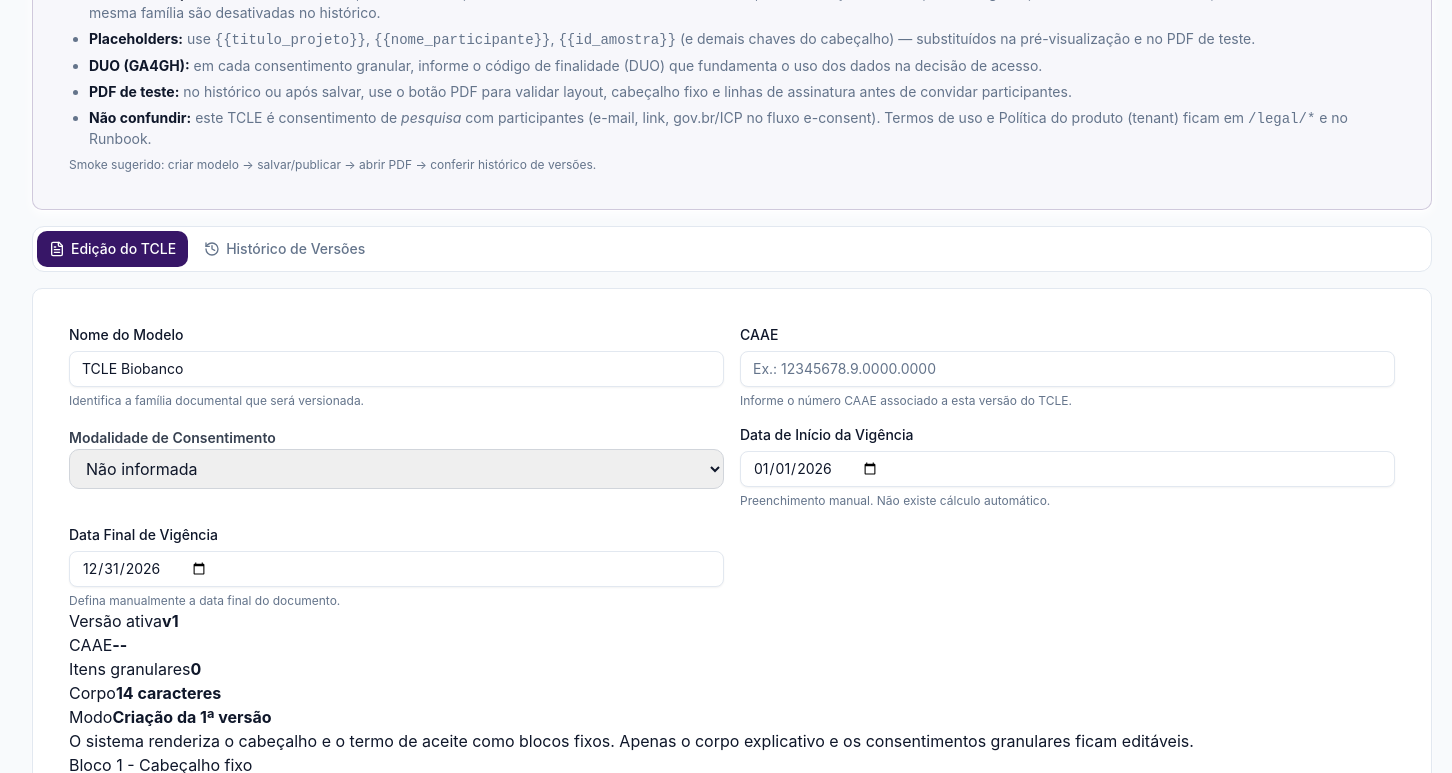
Test: TcleBuilderPage (#1337) › creates the first version with the granular permission and goes to its edit route
Earlier steps of the test are not shown.
(page scrolled)
Type " 12345678.9.0000.0000 " into the field labelled "CAAE" at (1068, 368), box [740,350,1395,386]
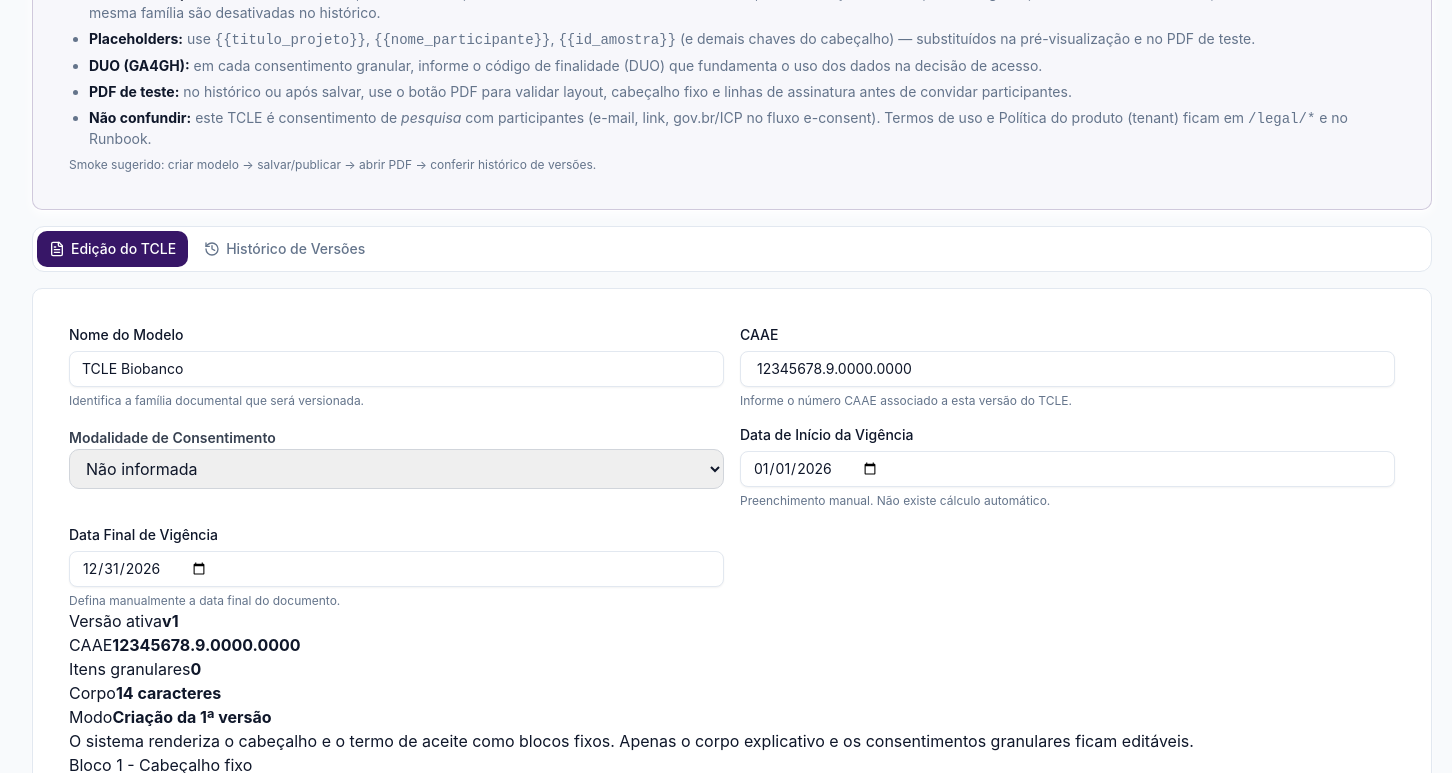
Select "Amplo" in the dropdown labelled "Modalidade de Consentimento" at (396, 468), box [69,448,724,488]
(page scrolled)
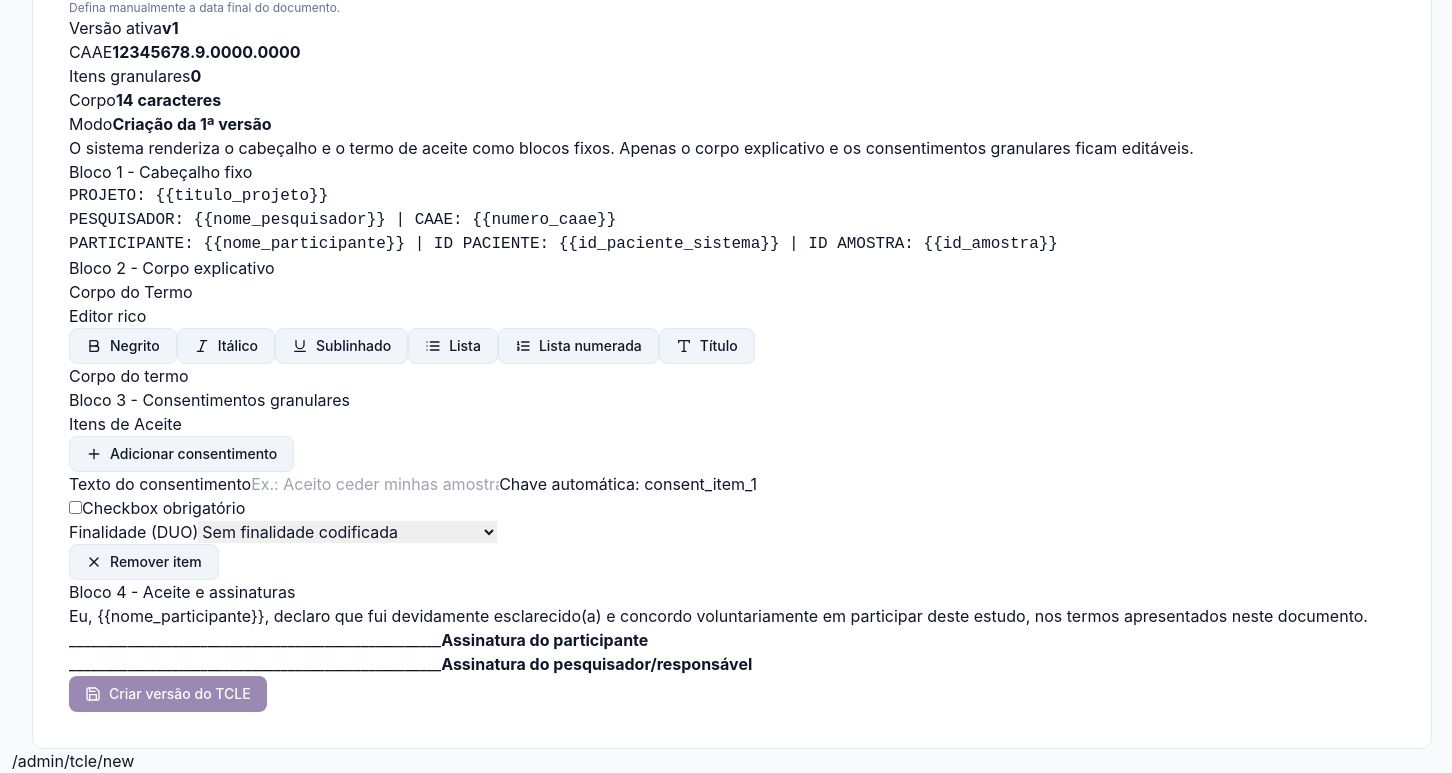
Type "Aceito o armazenamento" into the field labelled "Texto do consentimento" at (375, 484), box [251,472,499,496]
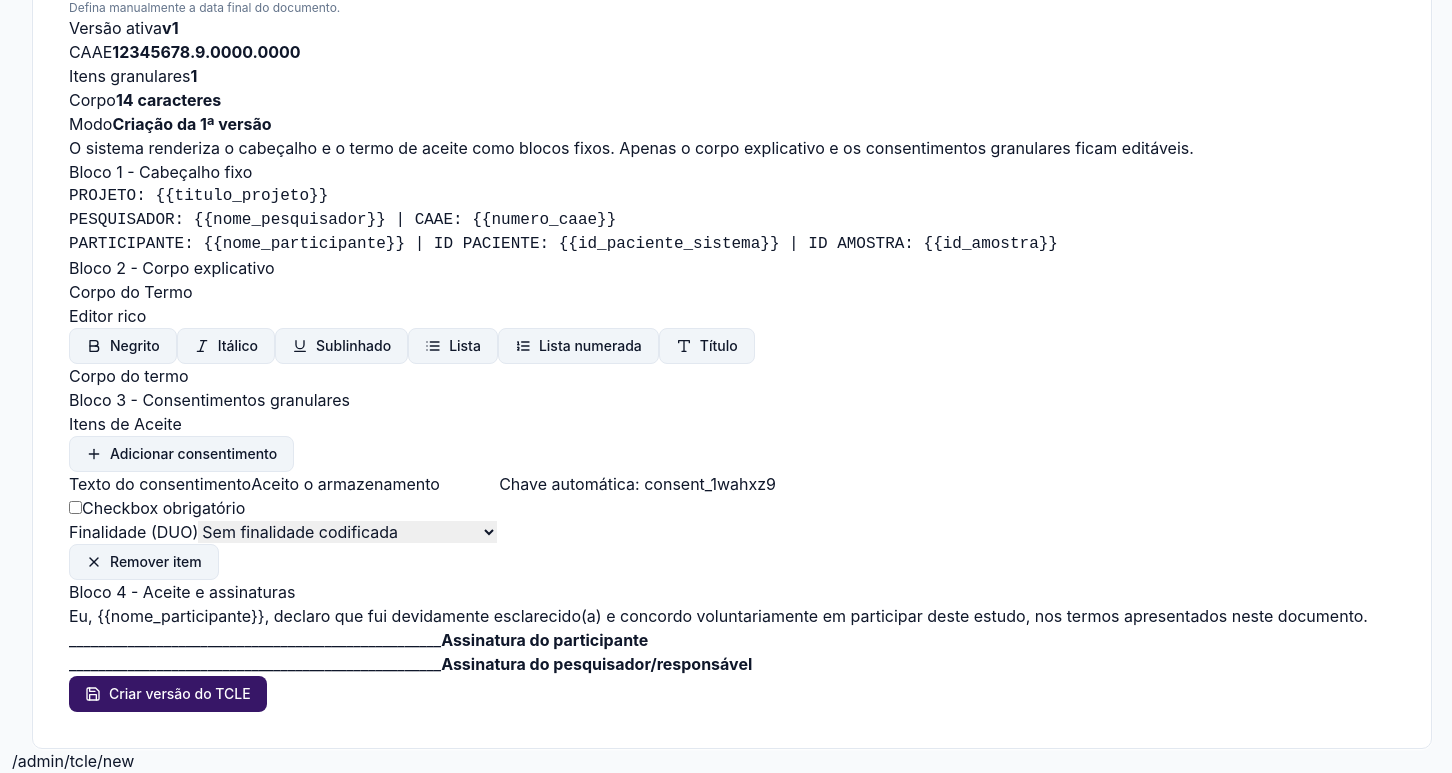
Click the checkbox labelled "Checkbox obrigatório" at (76, 507), box [69,500,82,514]
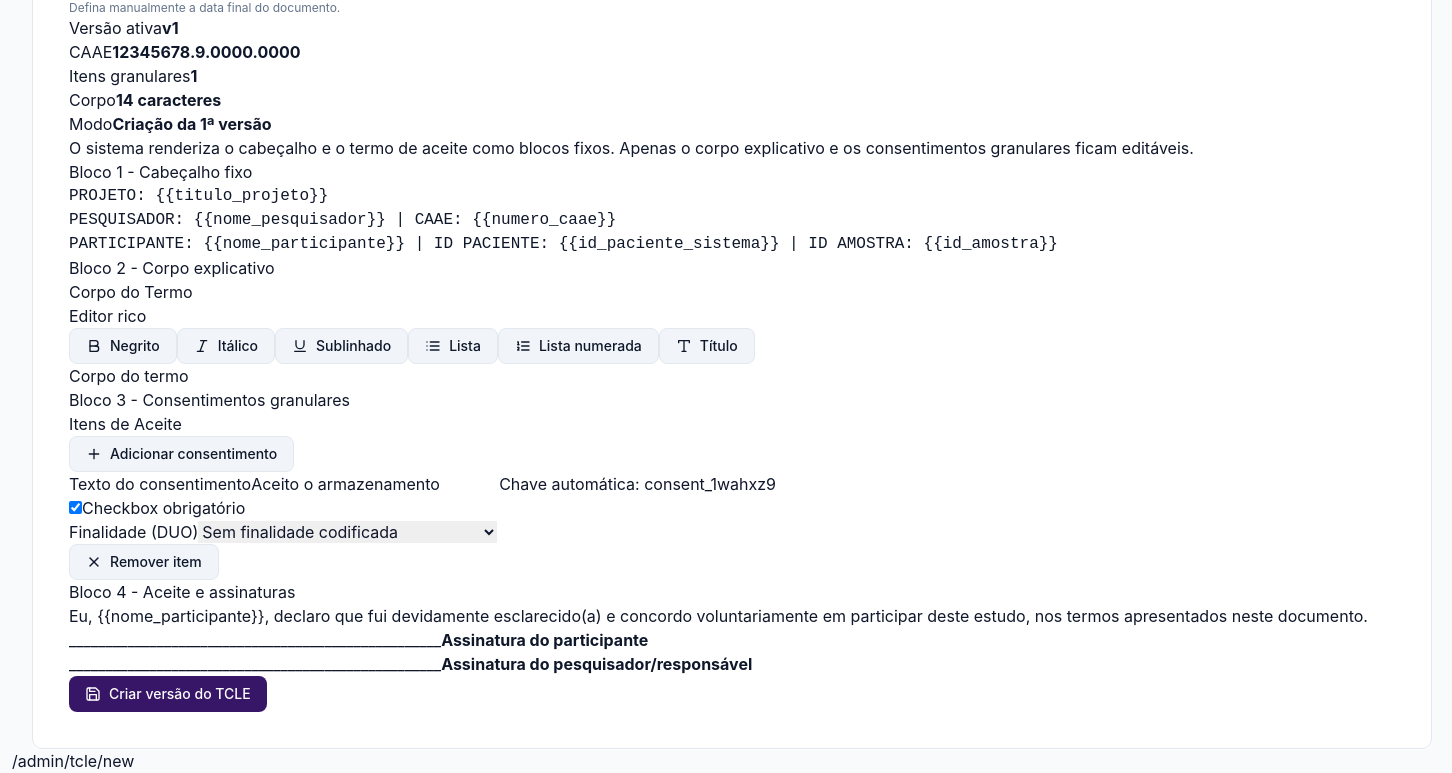
Select "Pesquisa biomédica (DUO:0000006)" in the dropdown labelled "Finalidade (DUO)" at (348, 532), box [198,520,497,542]
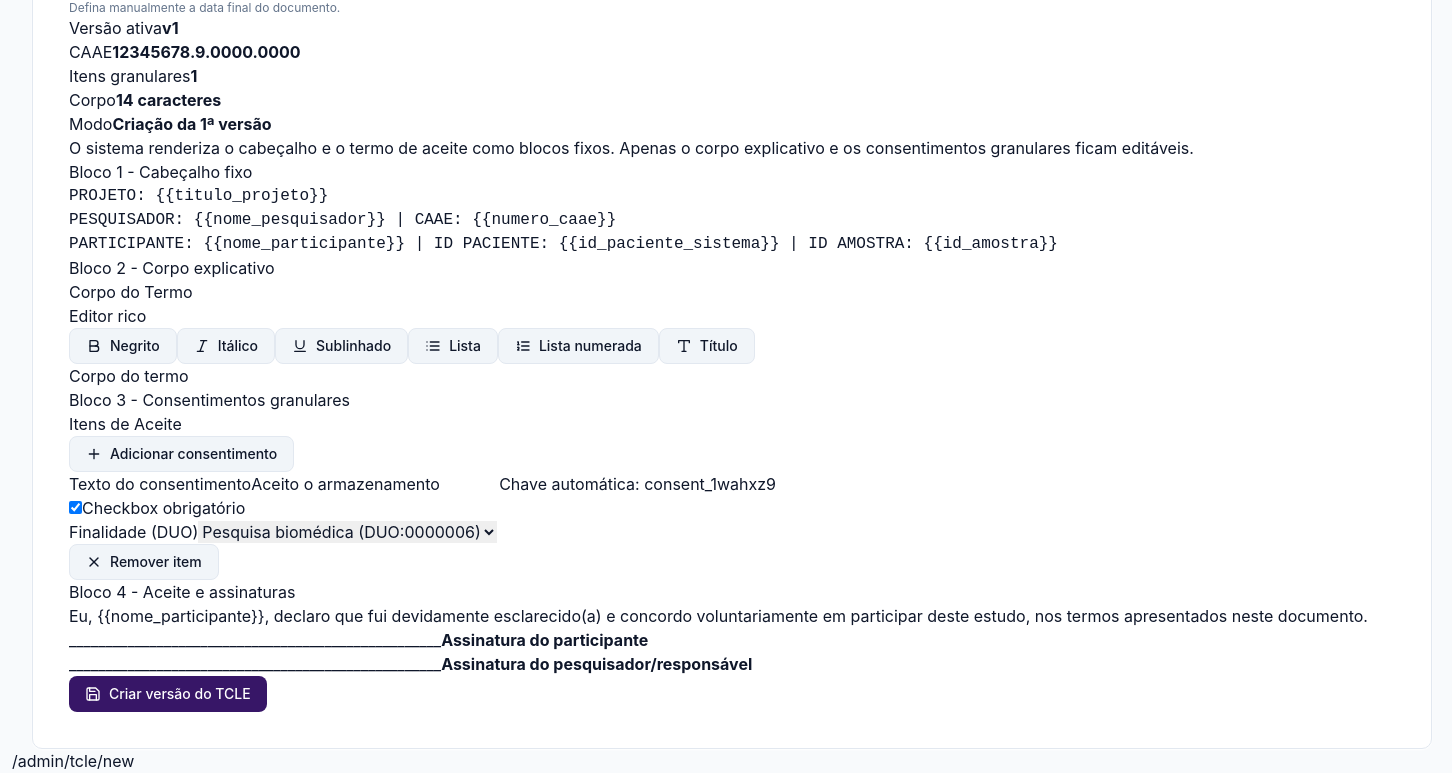
Expected: the text "14 caracteres" is shown, [116,90,221,110]
Expected: the button "Criar versão do TCLE" is enabled
Click the button "Criar versão do TCLE" at (168, 694), box [69,676,267,712]
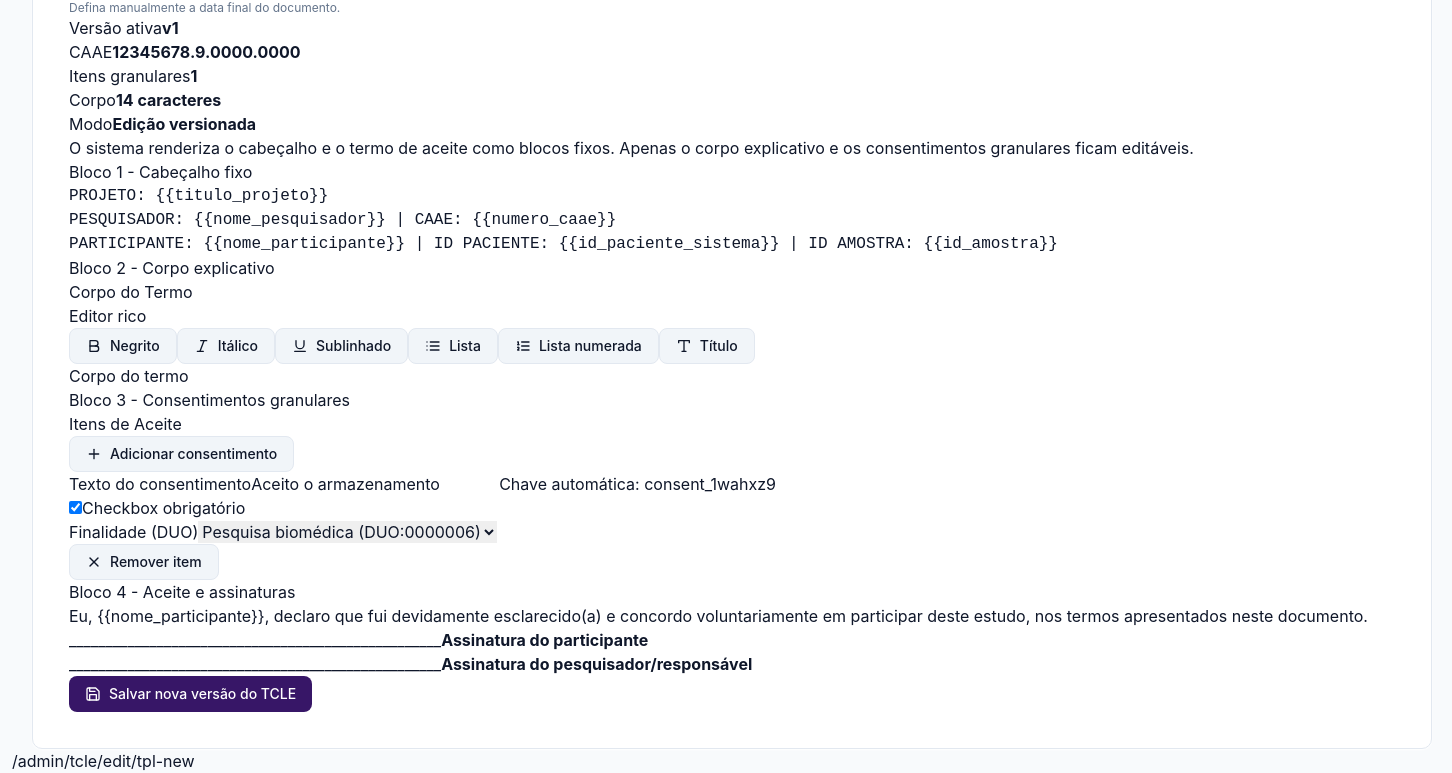
Expected: the text with test id "location" reads "/admin/tcle/edit/tpl-new", [12,750,195,770]
